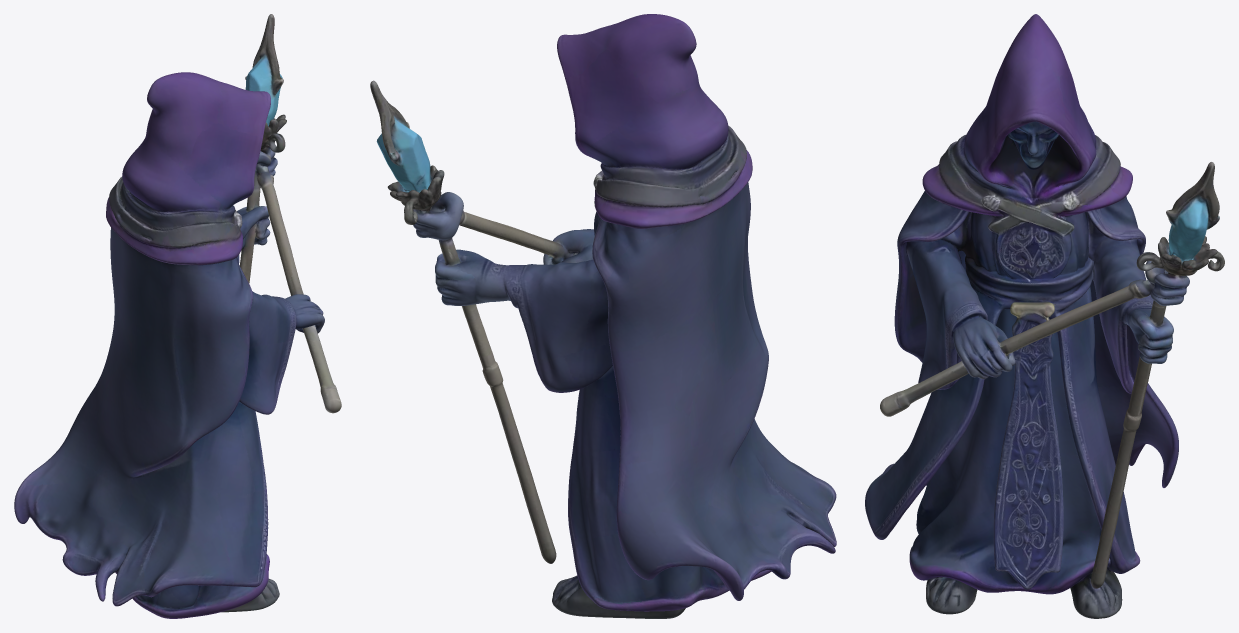
Rendered from mesh.glb.tmp-opt.glb.
3 views of the same model, side by side, from view 1: azimuth 30°, elevation 25°; view 2: azimuth 150°, elevation 25°; view 3: azimuth 270°, elevation 25° (orthographic). The views are drawn at different scales.
Visible parts, largest first — view 1: tripo_node_b6f5a401-6d4a-40ea-b085-64a956c477b2; view 2: tripo_node_b6f5a401-6d4a-40ea-b085-64a956c477b2; view 3: tripo_node_b6f5a401-6d4a-40ea-b085-64a956c477b2.
Part boxes in pixels (x1,y1,x2,y2): tripo_node_b6f5a401-6d4a-40ea-b085-64a956c477b2: (14, 14, 341, 618); tripo_node_b6f5a401-6d4a-40ea-b085-64a956c477b2: (370, 14, 836, 618); tripo_node_b6f5a401-6d4a-40ea-b085-64a956c477b2: (865, 14, 1224, 618).
Bounding box in the file's own units: 0.6038 × 1 × 0.5788.
Materials: 1 (1 with a texture image).
